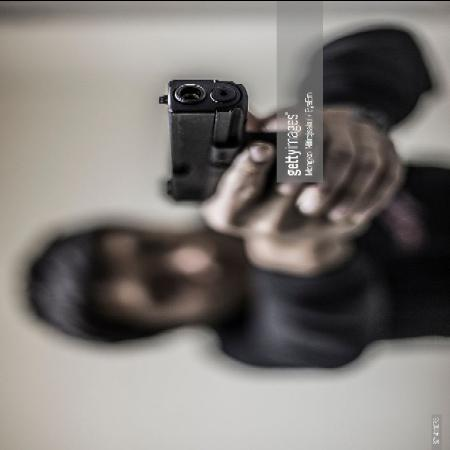Pistol: (158, 75, 320, 209)
